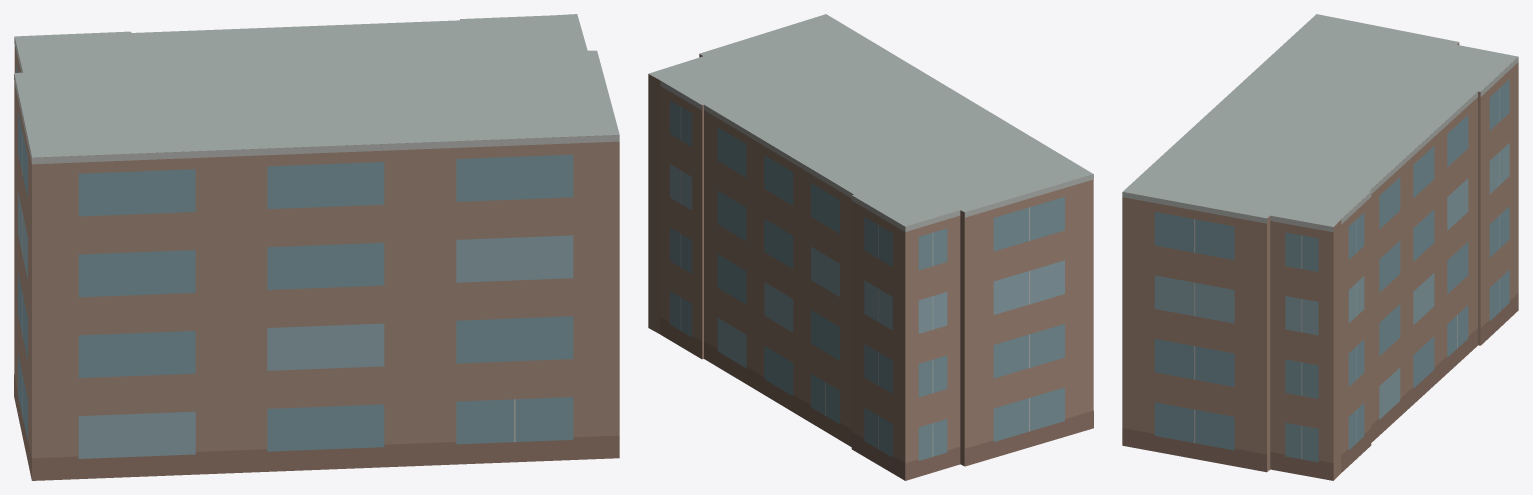
Rendered from survey-upis-32658800.glb.
3 renders of one model, left to right at view 1: azimuth 30°, elevation 25°; view 2: azimuth 150°, elevation 25°; view 3: azimuth 270°, elevation 25°, orthographic. The views are drawn at different scales.
Visible parts, largest first — view 1: survey-upis-32658800.tmp; view 2: survey-upis-32658800.tmp; view 3: survey-upis-32658800.tmp.
Part boxes in pixels (box(x1,y1,x2,y2)): survey-upis-32658800.tmp: box(14, 14, 619, 480); survey-upis-32658800.tmp: box(648, 14, 1093, 480); survey-upis-32658800.tmp: box(1122, 14, 1518, 480).
Size of the model in its own units: 21.07 by 11.7 by 16.55.
